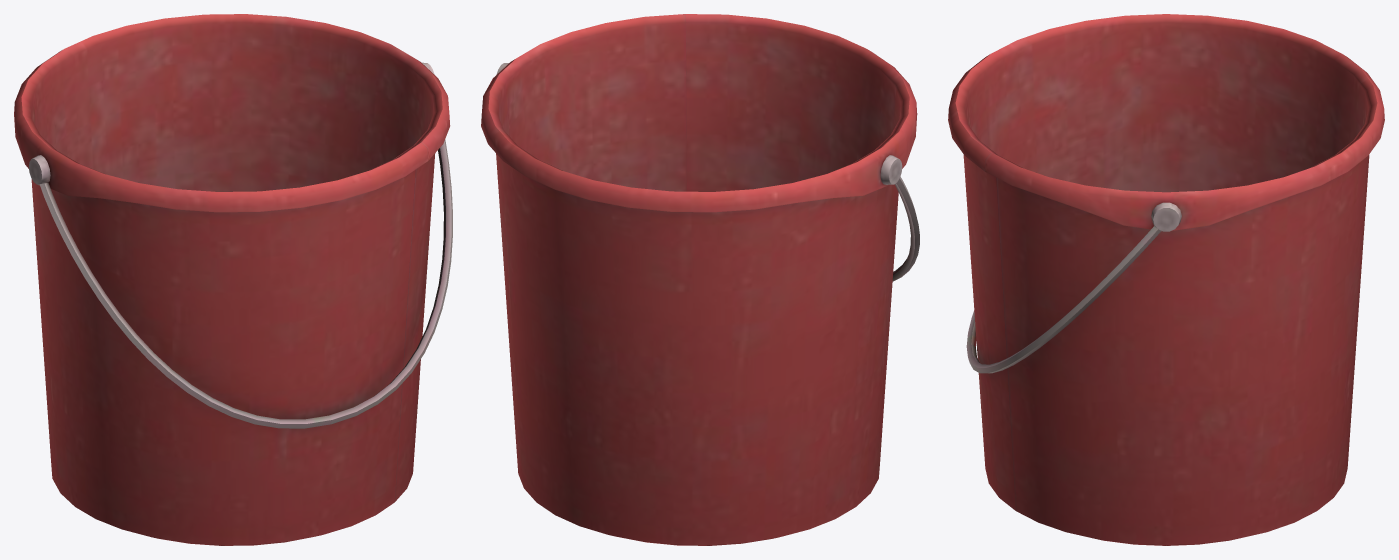
The picture shows the model from 3 angles, left to right: view 1: azimuth 30°, elevation 25°; view 2: azimuth 150°, elevation 25°; view 3: azimuth 270°, elevation 25°; orthographic projection.
Visible parts, largest first — view 1: Plastic_Bucket; view 2: Plastic_Bucket; view 3: Plastic_Bucket.
Boxes of the visible parts, <box> form: Plastic_Bucket: <box>14,14,452,545</box>; Plastic_Bucket: <box>481,14,919,545</box>; Plastic_Bucket: <box>948,14,1384,545</box>.
Bounding box in the file's own units: 0.4719 × 0.4283 × 0.4543.
1 material, 1 textured.
